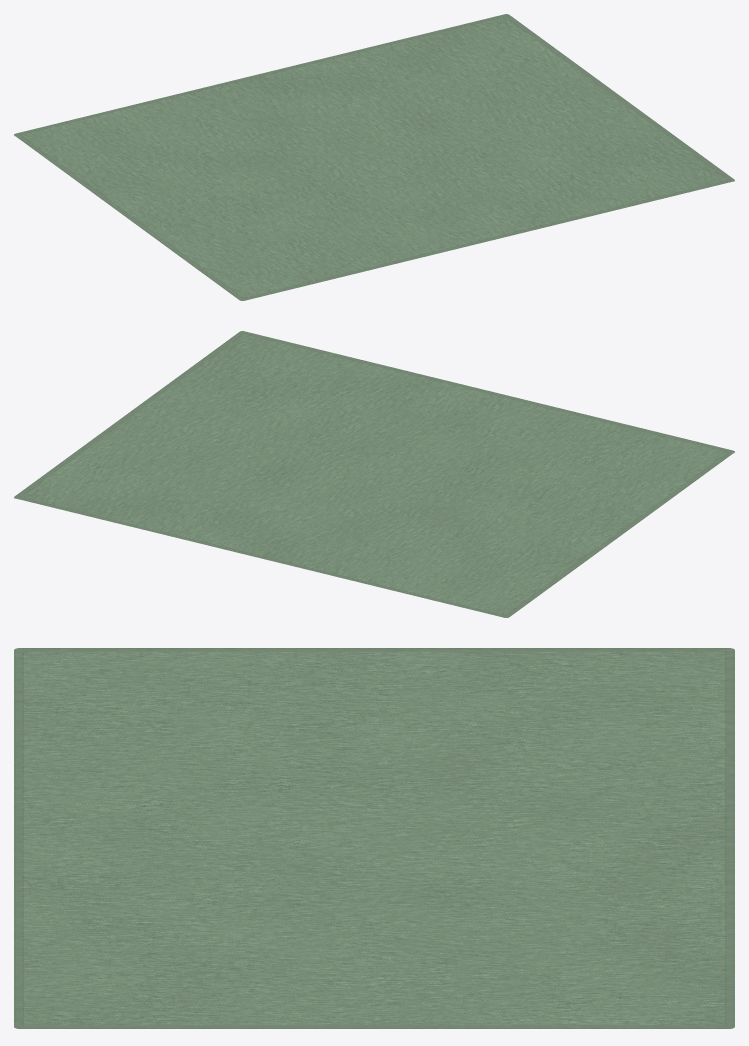
File: green_L_r90.glb
3 renders of one model, top to bottom at view 1: azimuth 30°, elevation 25°; view 2: azimuth 150°, elevation 25°; view 3: azimuth 270°, elevation 25°, orthographic. The views are drawn at different scales.
Visible parts, largest first — view 1: reliv_green_L_r90; view 2: reliv_green_L_r90; view 3: reliv_green_L_r90.
Part boxes in pixels (left/top/right/bottom): reliv_green_L_r90: left=14, top=14, right=734, bottom=300; reliv_green_L_r90: left=14, top=331, right=734, bottom=617; reliv_green_L_r90: left=14, top=648, right=734, bottom=1028.
Bounding box in the file's own units: 2.5 × 0.009 × 2.
2 materials, 1 textured.
